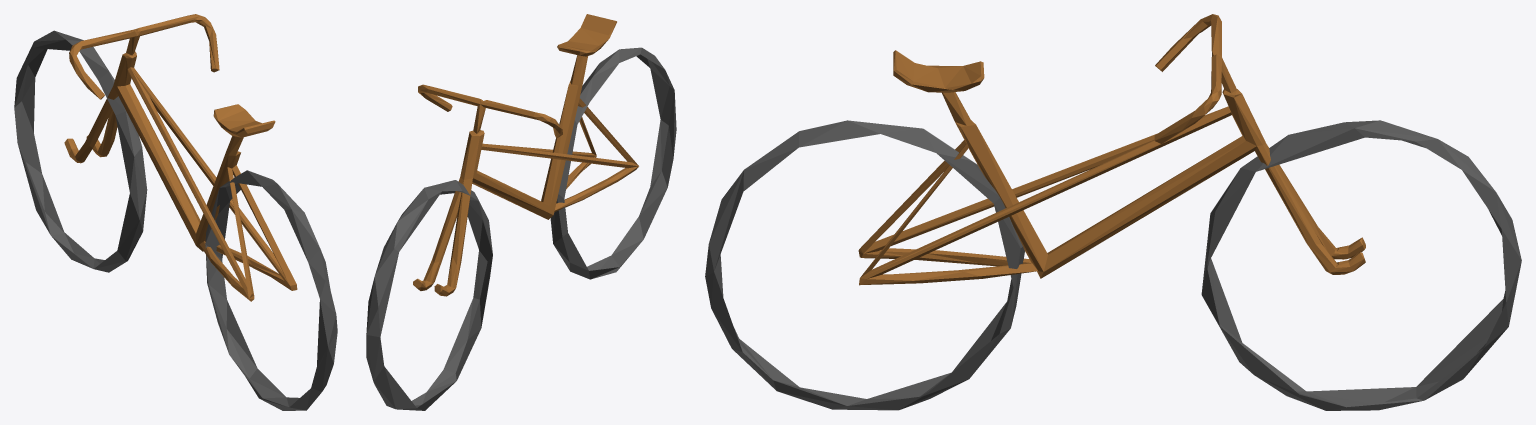
Rendered from bicycle.glb.
3 renders of one model, left to right at view 1: azimuth 30°, elevation 25°; view 2: azimuth 150°, elevation 25°; view 3: azimuth 270°, elevation 25°, orthographic. The views are drawn at different scales.
Visible parts, largest first — view 1: FullBike - Frame-1, FullBike - Wheel-2, FullBike - Wheel-1; view 2: FullBike - Frame-1, FullBike - Wheel-2, FullBike - Wheel-1; view 3: FullBike - Frame-1, FullBike - Wheel-2, FullBike - Wheel-1.
Boxes of the visible parts, bbox=[...] form: FullBike - Frame-1: bbox=[64, 14, 297, 301]; FullBike - Wheel-2: bbox=[14, 30, 147, 272]; FullBike - Wheel-1: bbox=[205, 170, 337, 410]; FullBike - Frame-1: bbox=[413, 14, 638, 296]; FullBike - Wheel-2: bbox=[366, 180, 492, 410]; FullBike - Wheel-1: bbox=[550, 47, 676, 279]; FullBike - Frame-1: bbox=[858, 14, 1365, 285]; FullBike - Wheel-2: bbox=[1201, 120, 1521, 410]; FullBike - Wheel-1: bbox=[705, 120, 1024, 410].
Size of the model in its own units: 0.8112 by 1.51 by 3.1.
